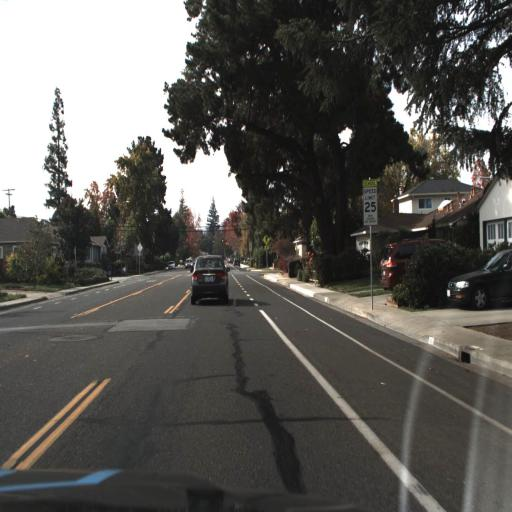car: (378, 235, 468, 295), (446, 247, 512, 311), (189, 253, 230, 305)
